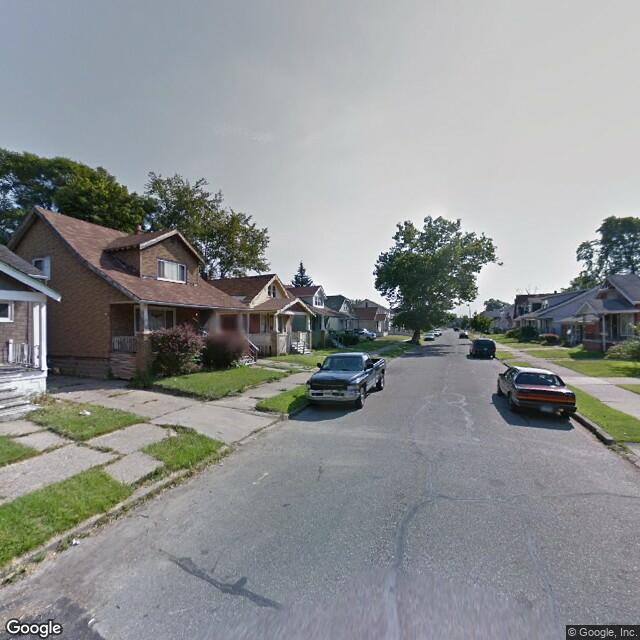litter: (69, 538, 82, 546), (77, 410, 93, 416)
